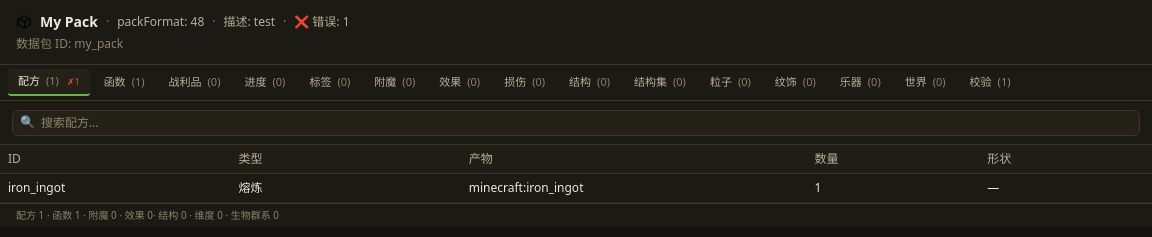
it: DatapackPreviewPanel › 切到函数 tab 显示函数
Click the tab "函数 (1)" at (124, 82), box [94, 70, 154, 94]
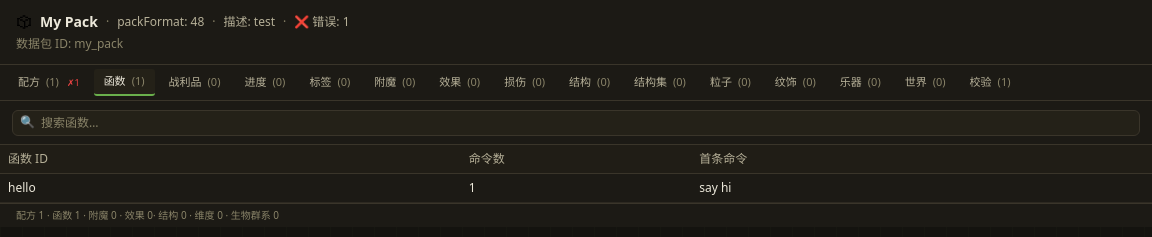
Expected: the text "hello" is shown, [0, 173, 461, 202]
